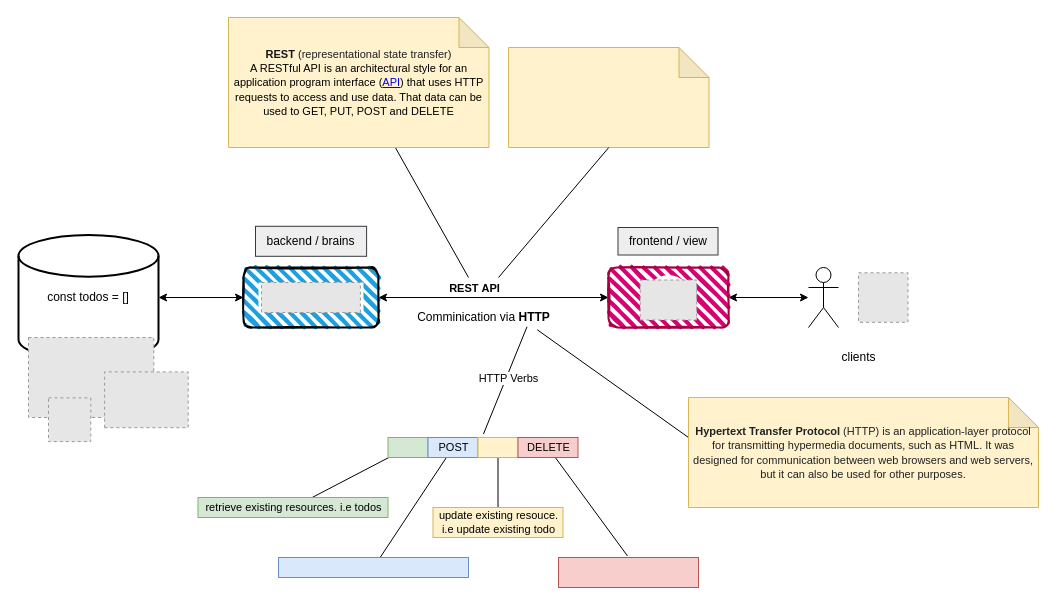
Image size: 1056x605. Some labels were removed from this diagram. Grey dashed boxes stand in for pictures. The shapes that lost their labels are listed below. From the top down, each one's centre as x and y in pixels, then its label:
(x=608, y=97): API is a Mediator between clients and the resources they interacat with
(x=407, y=447): GET
(x=497, y=447): PUT
(x=373, y=567): add new resource. ie. add new todo
(x=628, y=572): delete existing resource. ie. delete existing todo
